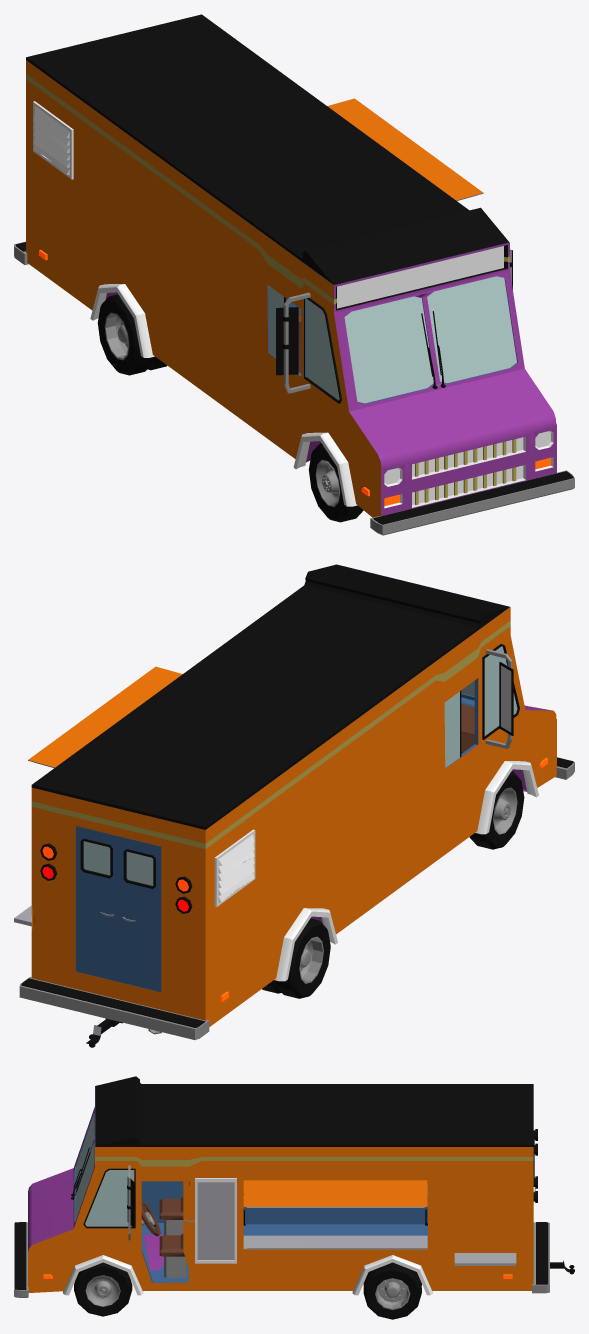
Rendered from Food Truck 3.fbx.
3 renders of one model, top to bottom at view 1: azimuth 30°, elevation 25°; view 2: azimuth 150°, elevation 25°; view 3: azimuth 270°, elevation 25°, orthographic. The views are drawn at different scales.
Parts seen in each view (by area): view 1: FoodTruckLong; view 2: FoodTruckLong; view 3: FoodTruckLong.
Part boxes in pixels (x1=…): FoodTruckLong: x1=14, y1=14, x2=574, y2=535; FoodTruckLong: x1=14, y1=564, x2=574, y2=1047; FoodTruckLong: x1=14, y1=1076, x2=574, y2=1319.
Size of the model in its own units: 3.83 by 3.25 by 9.16.
